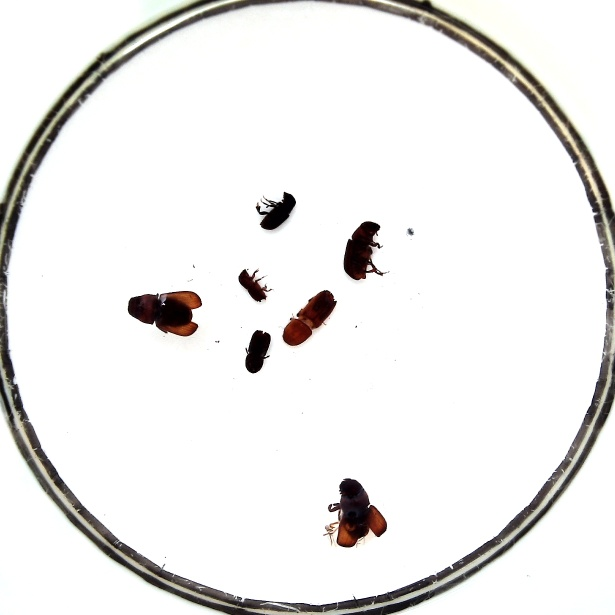acuminatus: (237, 265, 270, 302)
armandi: (253, 190, 296, 231)
boerner: (280, 288, 338, 346)
leconte: (322, 478, 386, 548), (125, 290, 203, 336), (342, 221, 386, 280)
linnaeus: (245, 329, 271, 374)
